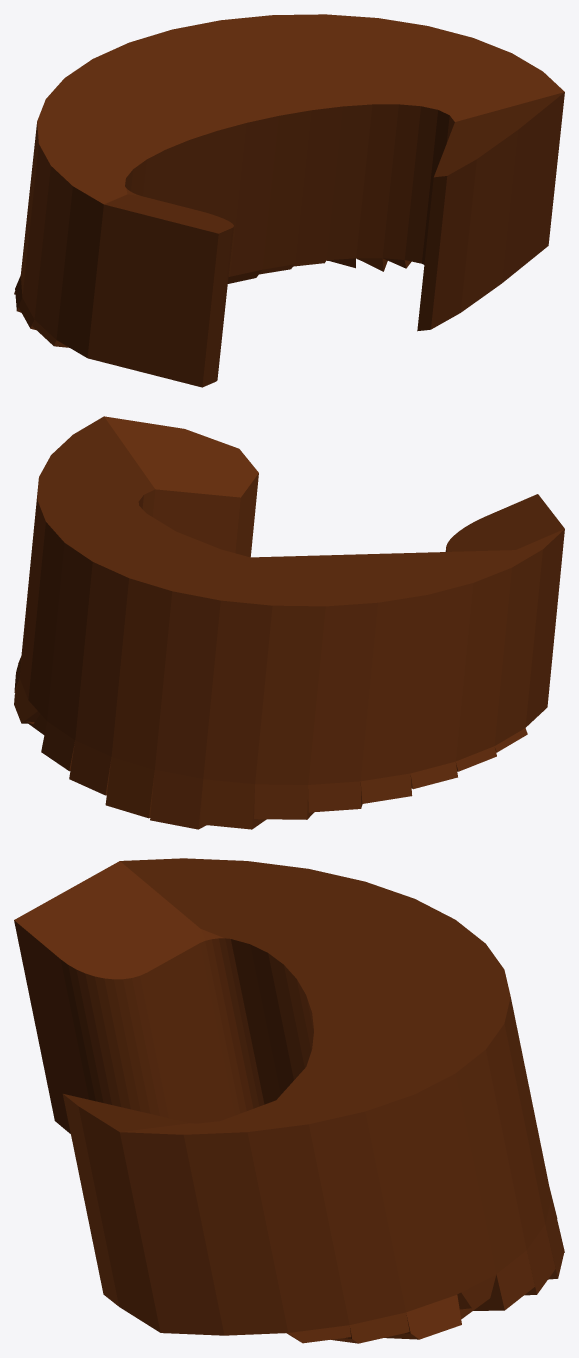
File: croisant.fbx
3 views of the same model, one above another, from view 1: azimuth 30°, elevation 25°; view 2: azimuth 150°, elevation 25°; view 3: azimuth 270°, elevation 25° (orthographic). The views are drawn at different scales.
Parts seen in each view (by area): view 1: Cube; view 2: Cube; view 3: Cube.
Boxes of the visible parts, x1,y1,x2,y2 form: Cube: [14, 14, 564, 387]; Cube: [14, 416, 564, 829]; Cube: [14, 858, 564, 1343].
Bounding box in the file's own units: 201 × 90.1 × 168.
